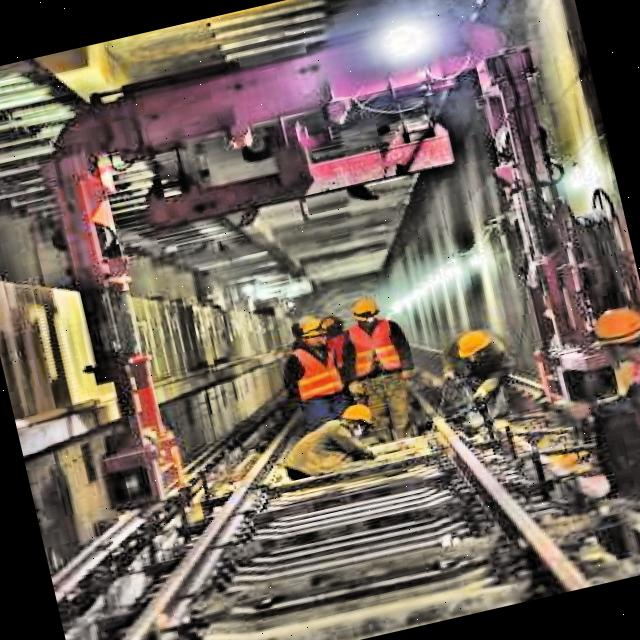helmet: (586, 296, 640, 367), (332, 395, 377, 442), (454, 324, 496, 372), (350, 290, 384, 332), (296, 314, 331, 353)
